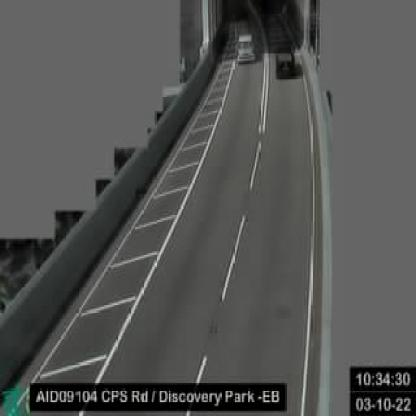Car: (234, 34, 255, 60), (274, 47, 294, 74)
